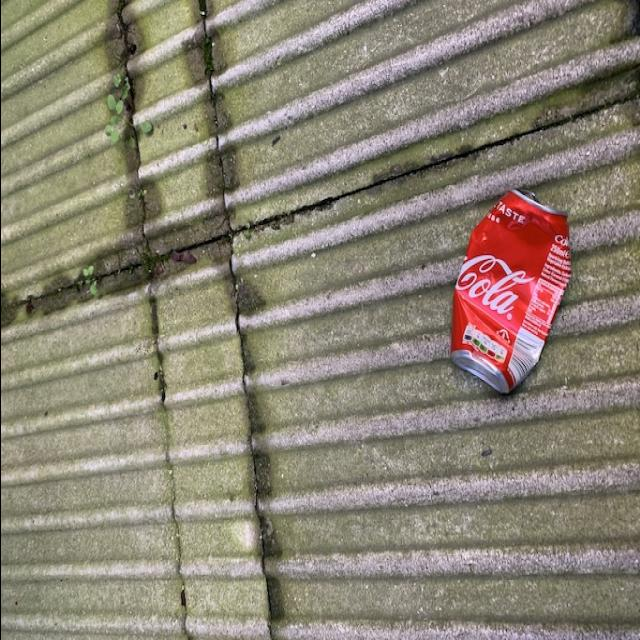Aluminum Can: (447, 190, 573, 400)
